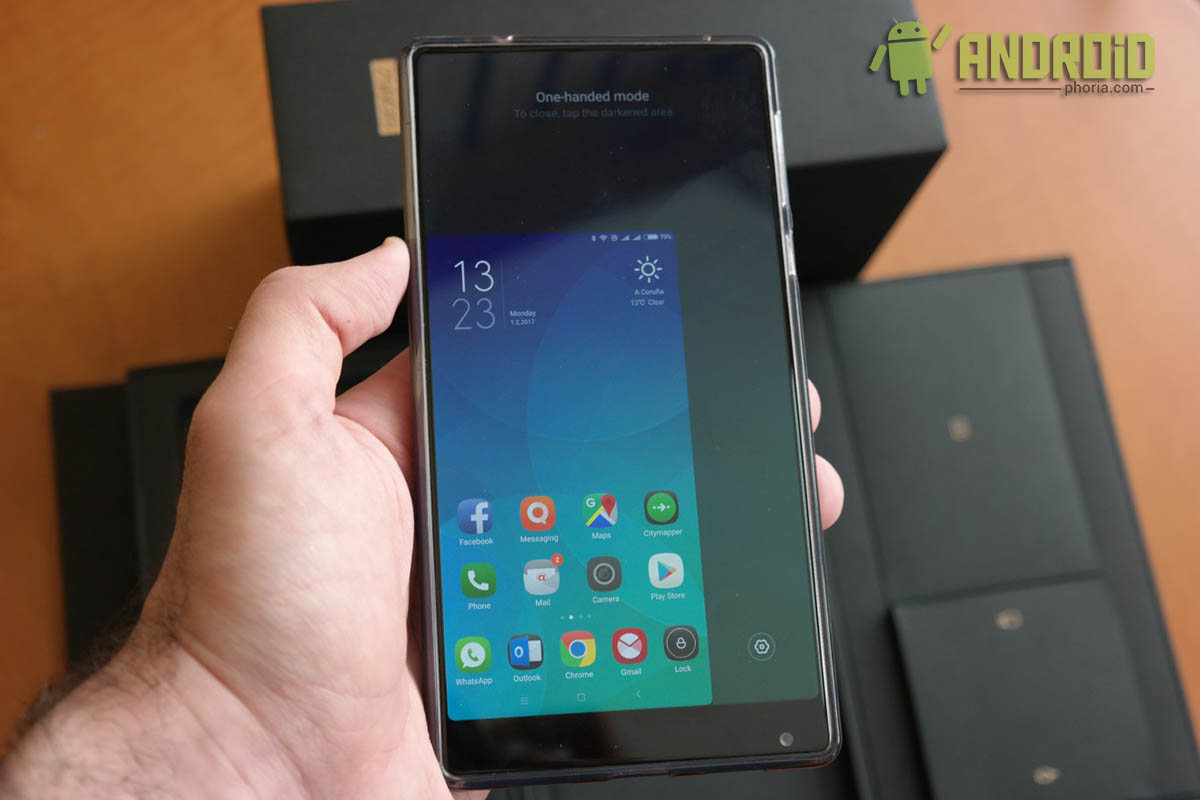smartphone: (397, 36, 845, 791)
